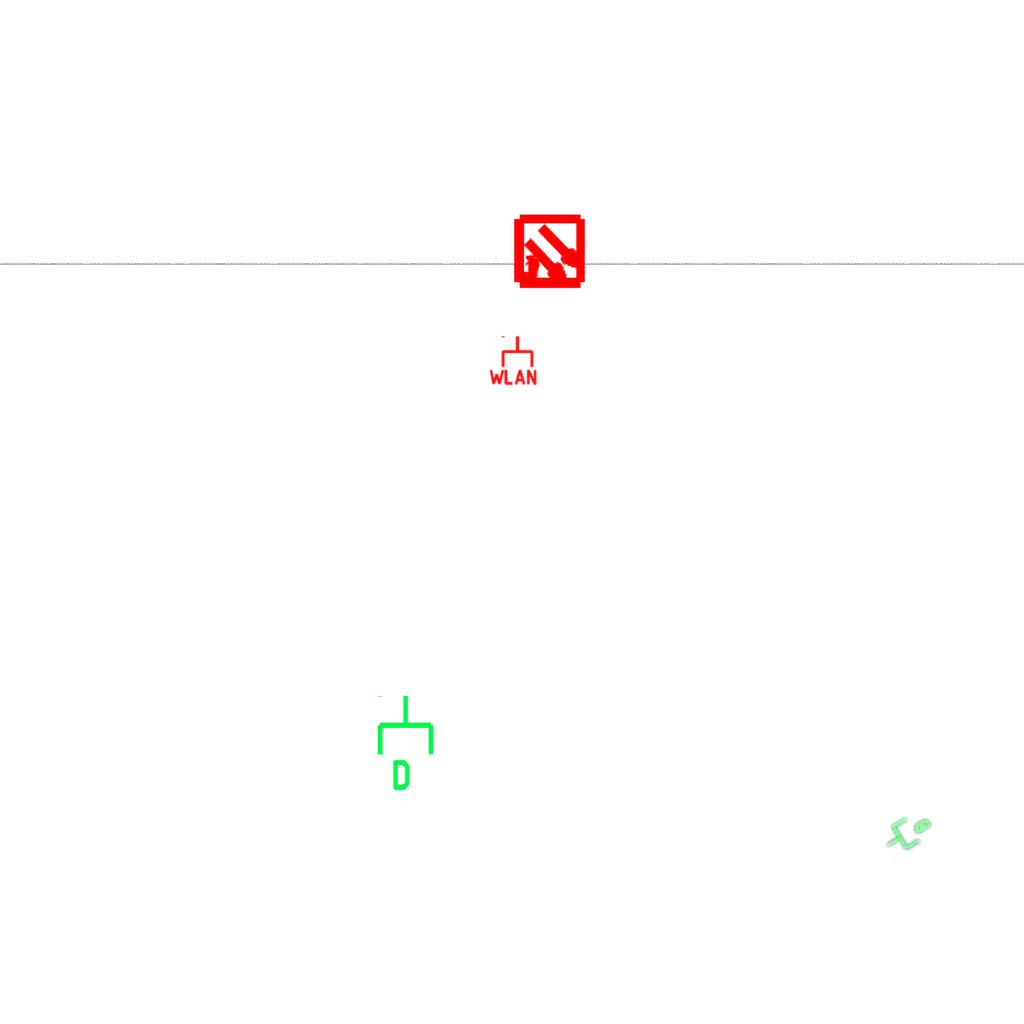Datenanschluss_einfach: (373, 693, 442, 793), (876, 804, 938, 860)
OT_Multisensormelder_(Kombination_RMO_WMD): (493, 197, 606, 310)
WLAN: (487, 334, 539, 386)
